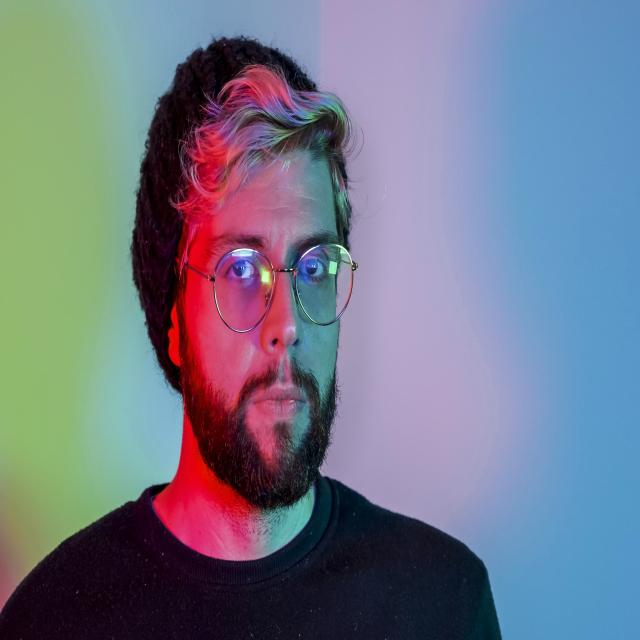adult: (0, 40, 506, 640)
